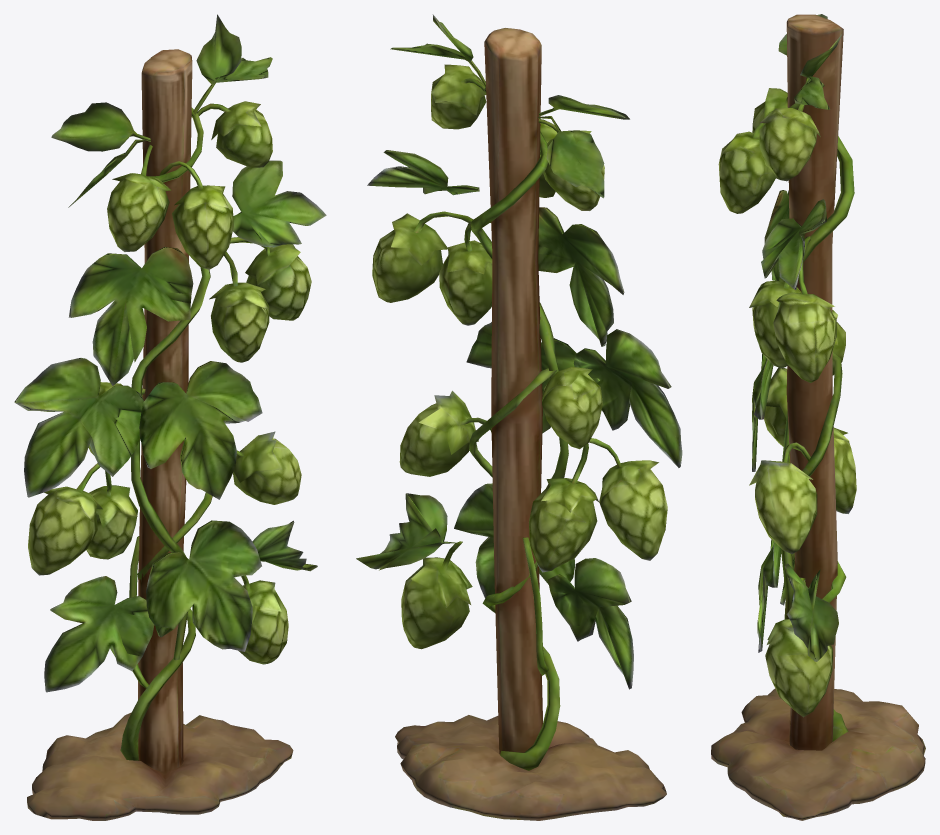
The model's file is camp_houblon.glb.
3 renders of one model, left to right at view 1: azimuth 30°, elevation 25°; view 2: azimuth 150°, elevation 25°; view 3: azimuth 270°, elevation 25°, orthographic. The views are drawn at different scales.
Visible parts, largest first — view 1: geometry_0; view 2: geometry_0; view 3: geometry_0.
Boxes of the visible parts, <box> form: geometry_0: <box>14,14,326,820</box>; geometry_0: <box>356,14,682,820</box>; geometry_0: <box>711,14,925,820</box>.
Size of the model in its own units: 0.4155 by 0.9526 by 0.2441.
Materials: 1 (1 with a texture image).
